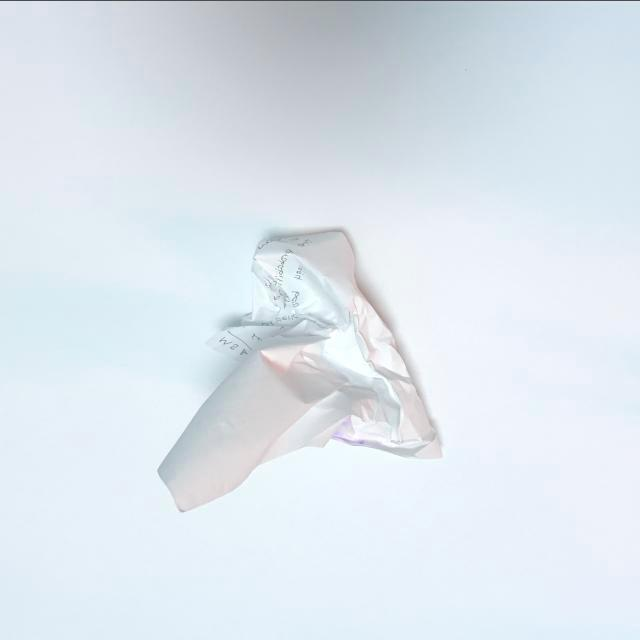paper: (150, 220, 466, 528)
